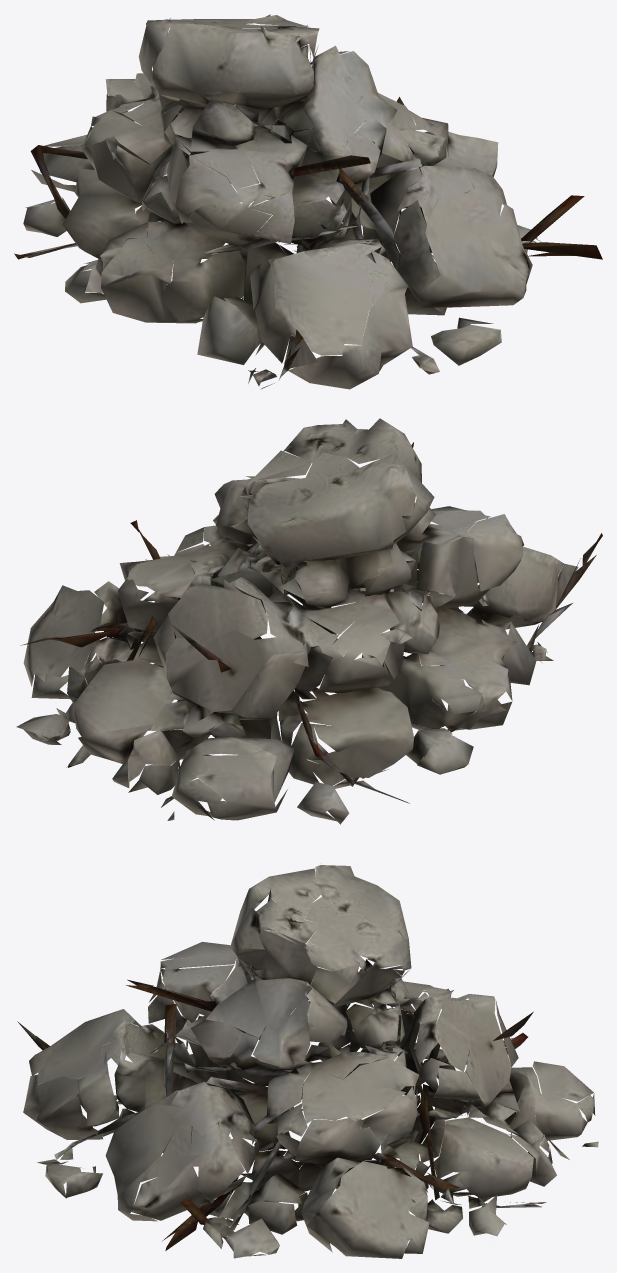
The model's file is rubble_pile.glb.
The picture shows the model from 3 angles, top to bottom: view 1: azimuth 30°, elevation 25°; view 2: azimuth 150°, elevation 25°; view 3: azimuth 270°, elevation 25°; orthographic projection. The views are drawn at different scales.
Parts seen in each view (by area): view 1: tripo_node_1505de44-2c31-4a55-a95c-f18b93219480; view 2: tripo_node_1505de44-2c31-4a55-a95c-f18b93219480; view 3: tripo_node_1505de44-2c31-4a55-a95c-f18b93219480.
Boxes of the visible parts, x1,y1,x2,y2 form: tripo_node_1505de44-2c31-4a55-a95c-f18b93219480: (14,14,602,389); tripo_node_1505de44-2c31-4a55-a95c-f18b93219480: (16,418,602,824); tripo_node_1505de44-2c31-4a55-a95c-f18b93219480: (17,865,598,1258).
Size of the model in its own units: 0.9811 by 0.6052 by 1.23.
Materials: 1 (1 with a texture image).
